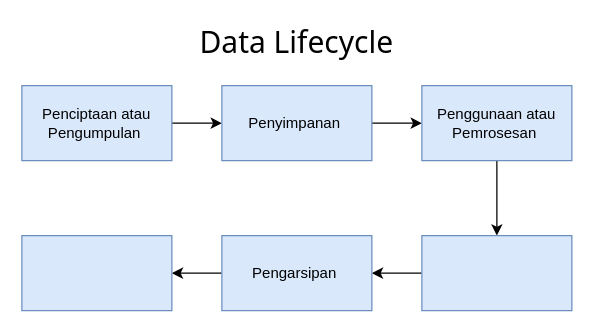
The diagram is 594 pixels wide and 333 high, and some of its shapes have lost their labels. The shapes that lost their labels are listed below. From the top down, each one's box as (x1, y1, x2, y2) in pixels, then its label:
(21, 234, 172, 311): Penghapusan
(421, 234, 572, 311): Berbagi atau Distribusi
